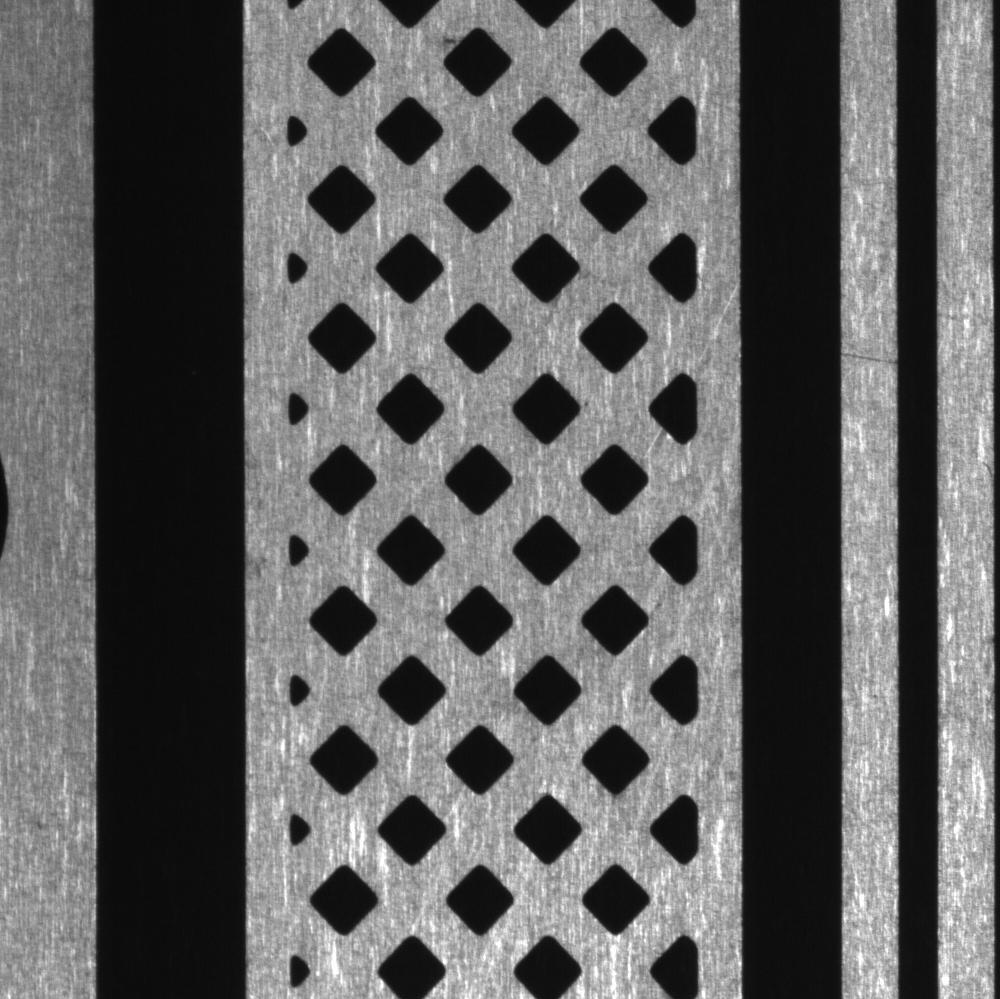Scar: (844, 327, 896, 384)
